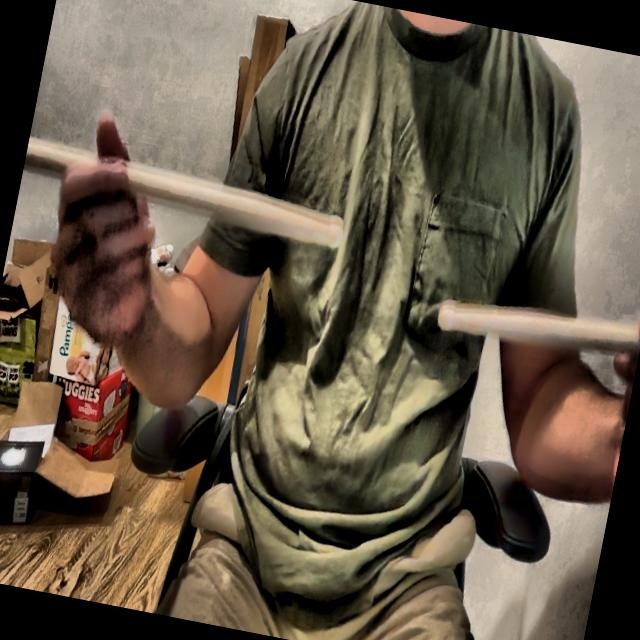Drumstick-Heads: (320, 203, 352, 254), (430, 291, 462, 339)
